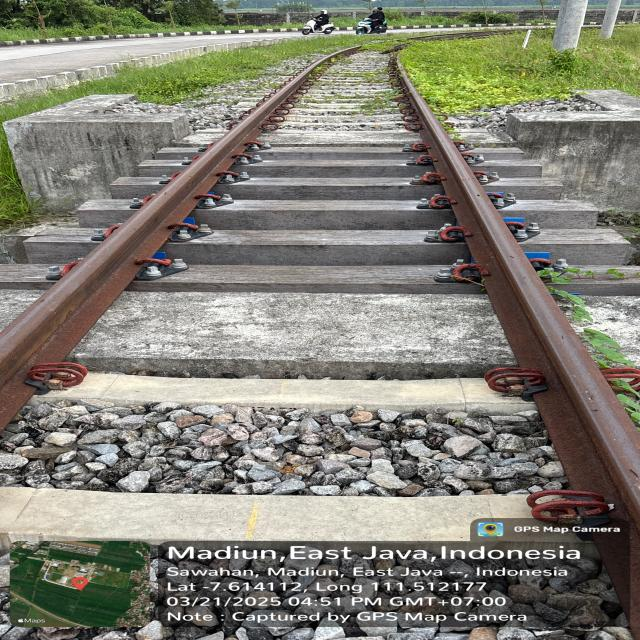rail-detection: (0, 46, 359, 427), (400, 72, 640, 634)
